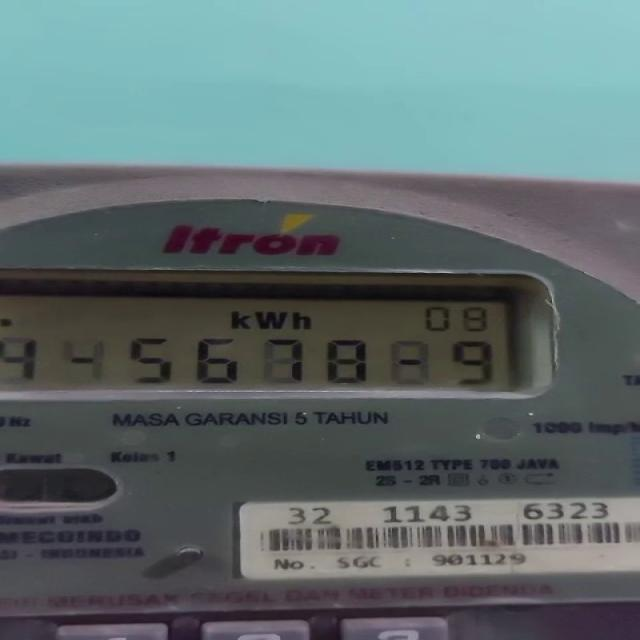LCD: (0, 252, 576, 414)
